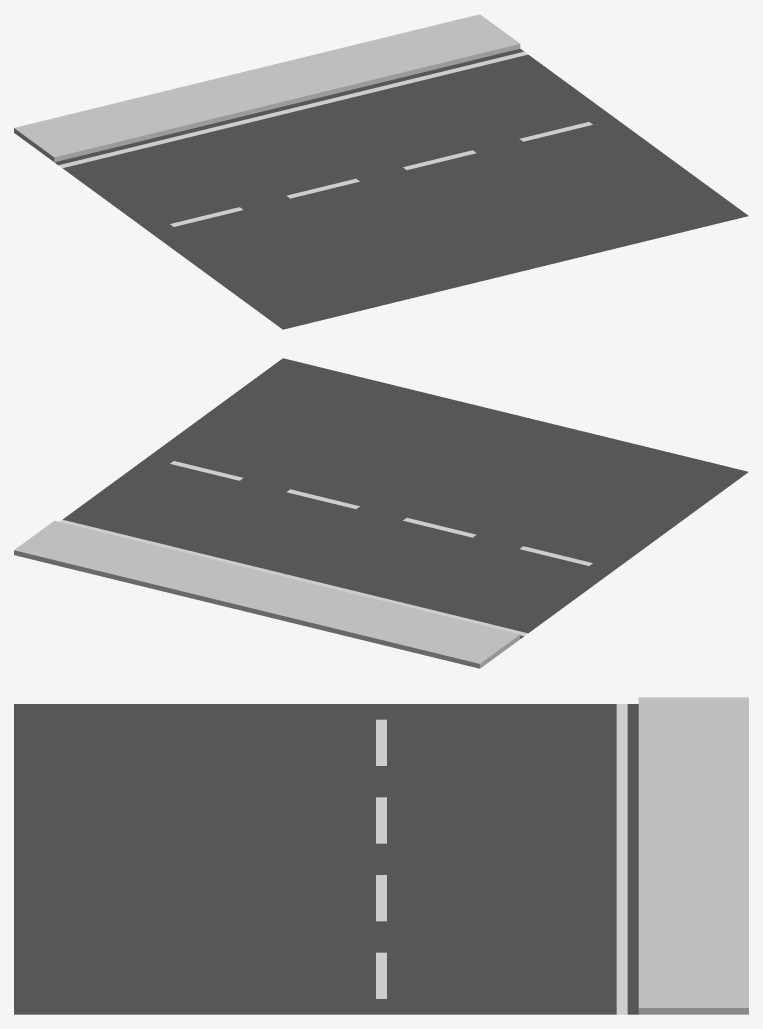
File: SPW_Urban_Road 2way_08.gltf
3 renders of one model, top to bottom at view 1: azimuth 30°, elevation 25°; view 2: azimuth 150°, elevation 25°; view 3: azimuth 270°, elevation 25°, orthographic. The views are drawn at different scales.
Parts seen in each view (by area): view 1: SPW_Urban_Road_2way_08; view 2: SPW_Urban_Road_2way_08; view 3: SPW_Urban_Road_2way_08.
Boxes of the visible parts, <box> form: SPW_Urban_Road_2way_08: <box>14,14,748,329</box>; SPW_Urban_Road_2way_08: <box>14,358,748,668</box>; SPW_Urban_Road_2way_08: <box>14,697,748,1014</box>.
Bounding box in the file's own units: 787 × 7.87 × 787.
1 material, 1 textured.
